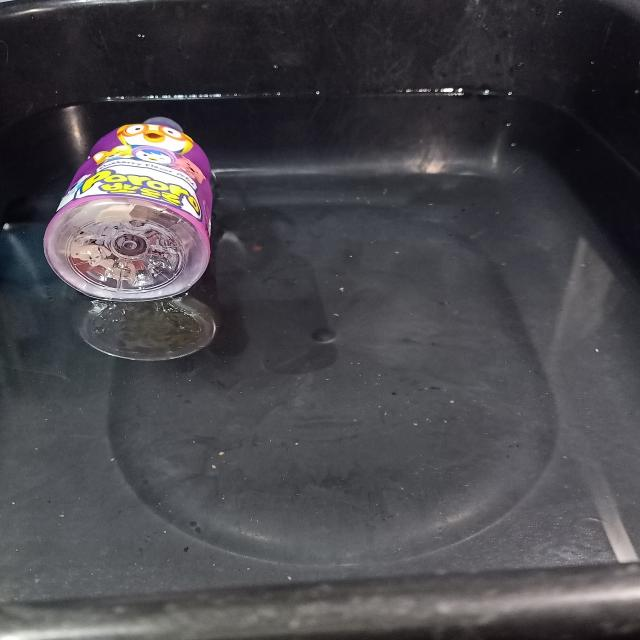Plastic Bottle: (44, 118, 212, 301)
